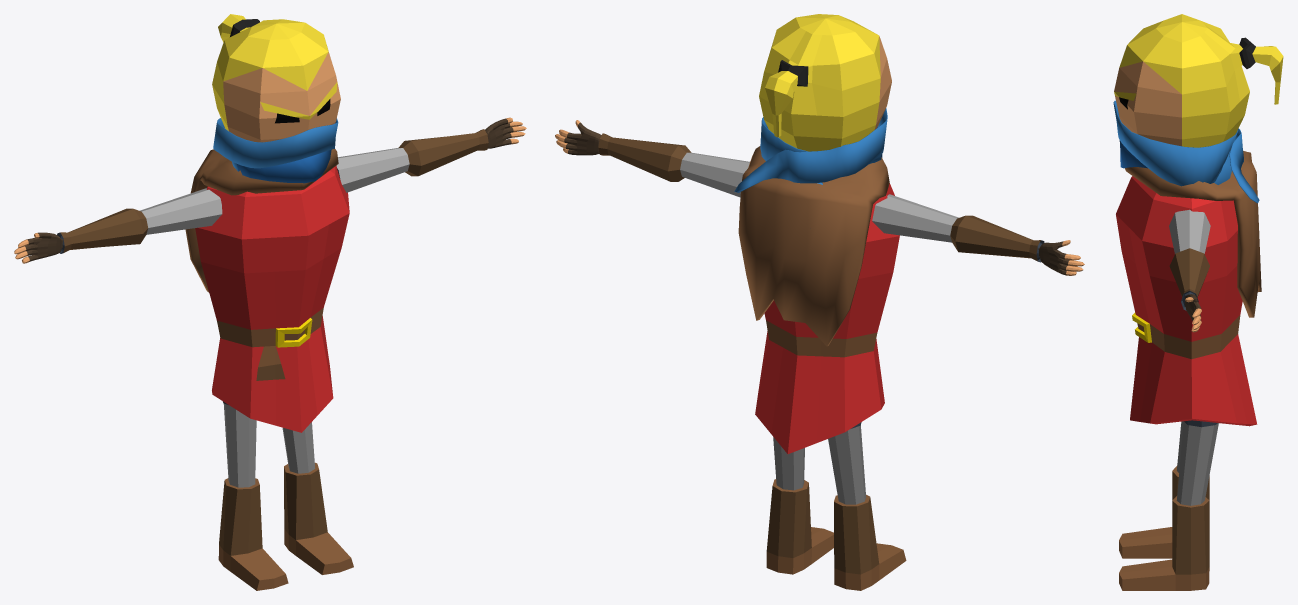
File: Archer.fbx
3 views of the same model, side by side, from view 1: azimuth 30°, elevation 25°; view 2: azimuth 150°, elevation 25°; view 3: azimuth 270°, elevation 25° (orthographic). The views are drawn at different scales.
Visible parts, largest first — view 1: Knight, Knight.001, Sphere, Plane, Cube; view 2: Knight.001, Cube, Knight, Sphere, Plane; view 3: Knight, Sphere, Knight.001, Plane, Cube.
Boxes of the visible parts, x1,y1,x2,y2 form: Knight: (195, 165, 349, 432); Knight.001: (14, 117, 526, 590); Sphere: (212, 14, 340, 142); Plane: (213, 118, 338, 183); Cube: (185, 149, 338, 292); Knight.001: (555, 120, 1084, 590); Cube: (738, 146, 889, 346); Knight: (755, 183, 899, 453); Sphere: (759, 14, 891, 151); Plane: (734, 108, 887, 192); Knight: (1116, 176, 1257, 426); Sphere: (1114, 14, 1283, 147); Knight.001: (1119, 209, 1218, 590); Plane: (1113, 100, 1259, 203); Cube: (1125, 148, 1261, 317).
Size of the model in its own units: 1.66 by 1.65 by 0.4666.
Materials: 1 (1 with a texture image).
